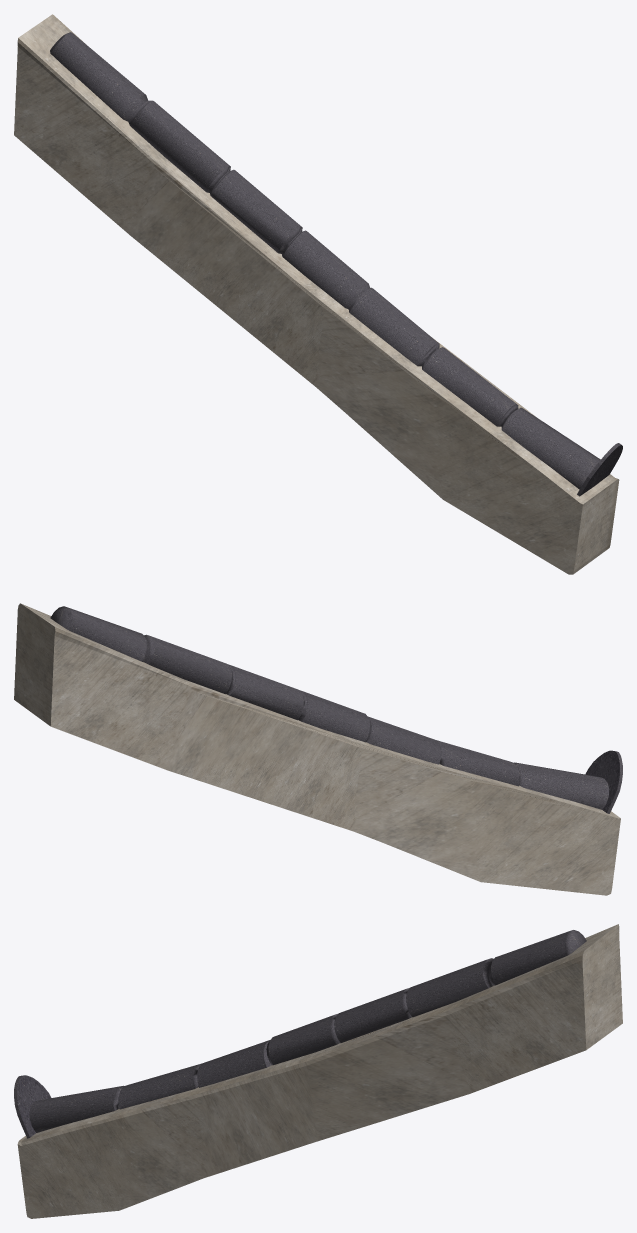
The model's file is SM_R_BeamRoof_7.fbx.
3 views of the same model, one above another, from view 1: azimuth 90°, elevation 25°; view 2: azimuth 150°, elevation 25°; view 3: azimuth 270°, elevation 25° (orthographic).
Visible parts, largest first — view 1: SM_R_BeamRoof_7; view 2: SM_R_BeamRoof_7; view 3: SM_R_BeamRoof_7.
Part boxes in pixels (bbox=[...]): SM_R_BeamRoof_7: bbox=[14, 14, 622, 574]; SM_R_BeamRoof_7: bbox=[14, 603, 622, 895]; SM_R_BeamRoof_7: bbox=[14, 924, 622, 1218].
Bounding box in the file's own units: 178 × 276 × 201.
2 materials, 2 textured.
